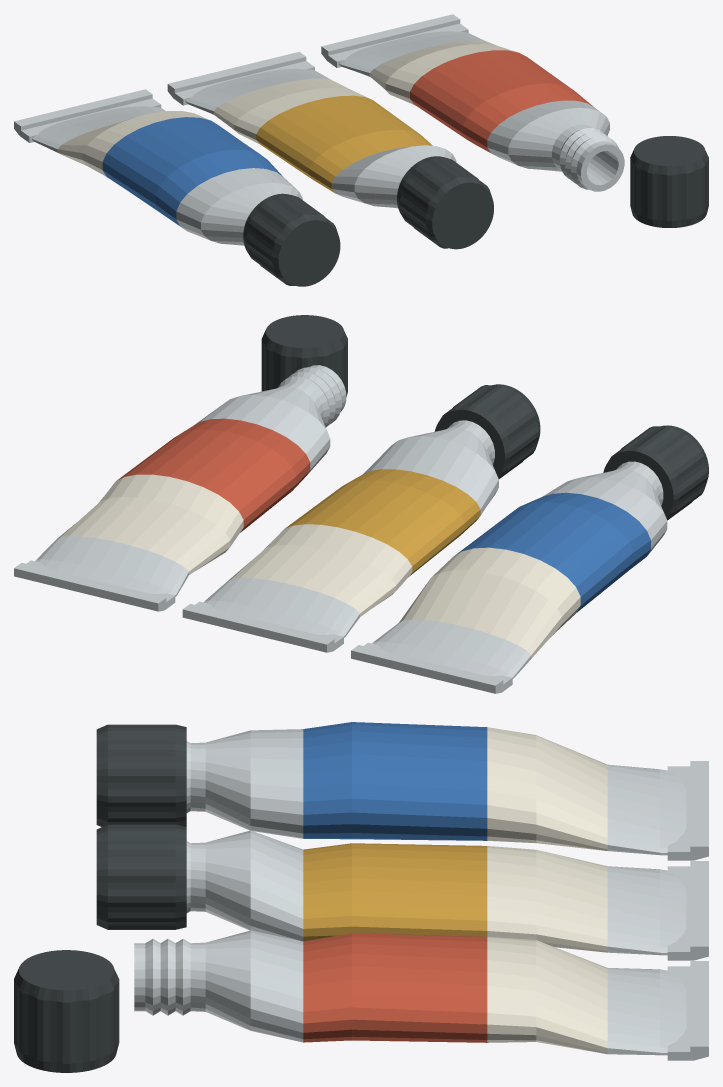
3 views of the same model, one above another, from view 1: azimuth 30°, elevation 25°; view 2: azimuth 150°, elevation 25°; view 3: azimuth 270°, elevation 25° (orthographic). The views are drawn at different scales.
Visible parts, largest first — view 1: Tube_Vermilion_Body, Tube_Blue_Body, Tube_Ochre_Body, Tube_Blue_Cap, Tube_Ochre_Cap, Tube_Vermilion_Cap, Tube_Vermilion_FoldedTail, Tube_Ochre_FoldedTail, Tube_Blue_FoldedTail; view 2: Tube_Vermilion_Body, Tube_Blue_Body, Tube_Ochre_Body, Tube_Vermilion_Cap, Tube_Blue_Cap, Tube_Ochre_Cap, Tube_Blue_FoldedTail, Tube_Ochre_FoldedTail, Tube_Vermilion_FoldedTail; view 3: Tube_Vermilion_Body, Tube_Blue_Body, Tube_Ochre_Body, Tube_Vermilion_Cap, Tube_Ochre_Cap, Tube_Blue_Cap, Tube_Blue_FoldedTail, Tube_Ochre_FoldedTail, Tube_Vermilion_FoldedTail.
Boxes of the visible parts, x1,y1,x2,y2 form: Tube_Vermilion_Body: [339, 31, 624, 191]; Tube_Blue_Body: [32, 106, 302, 245]; Tube_Ochre_Body: [185, 68, 456, 208]; Tube_Blue_Cap: [243, 193, 340, 286]; Tube_Ochre_Cap: [397, 156, 493, 249]; Tube_Vermilion_Cap: [630, 136, 708, 227]; Tube_Vermilion_FoldedTail: [321, 14, 468, 67]; Tube_Ochre_FoldedTail: [167, 51, 314, 105]; Tube_Blue_FoldedTail: [14, 89, 161, 142]; Tube_Vermilion_Body: [35, 365, 346, 596]; Tube_Blue_Body: [372, 461, 667, 678]; Tube_Ochre_Body: [204, 420, 498, 637]; Tube_Vermilion_Cap: [261, 315, 347, 397]; Tube_Blue_Cap: [603, 425, 708, 520]; Tube_Ochre_Cap: [435, 384, 540, 478]; Tube_Blue_FoldedTail: [351, 642, 512, 693]; Tube_Ochre_FoldedTail: [182, 601, 343, 652]; Tube_Vermilion_FoldedTail: [14, 560, 175, 611]; Tube_Vermilion_Body: [134, 930, 686, 1055]; Tube_Blue_Body: [186, 722, 686, 855]; Tube_Ochre_Body: [186, 830, 686, 955]; Tube_Vermilion_Cap: [14, 950, 119, 1072]; Tube_Ochre_Cap: [96, 824, 186, 929]; Tube_Blue_Cap: [96, 724, 186, 826]; Tube_Blue_FoldedTail: [667, 761, 708, 860]; Tube_Ochre_FoldedTail: [667, 861, 708, 960]; Tube_Vermilion_FoldedTail: [667, 961, 708, 1060].
Bounding box in the file's own units: 0.184 × 0.028 × 0.185.
